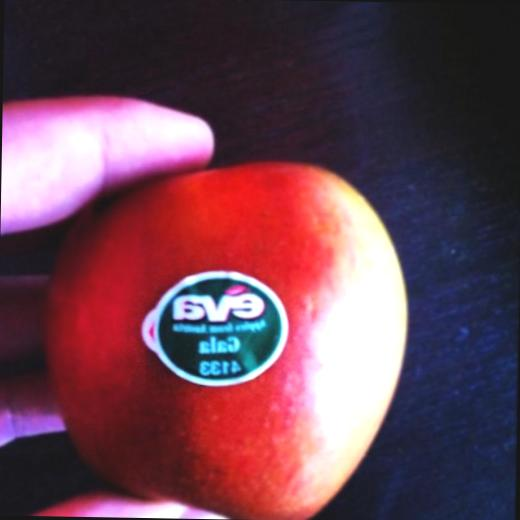Apple: (42, 153, 411, 520)
